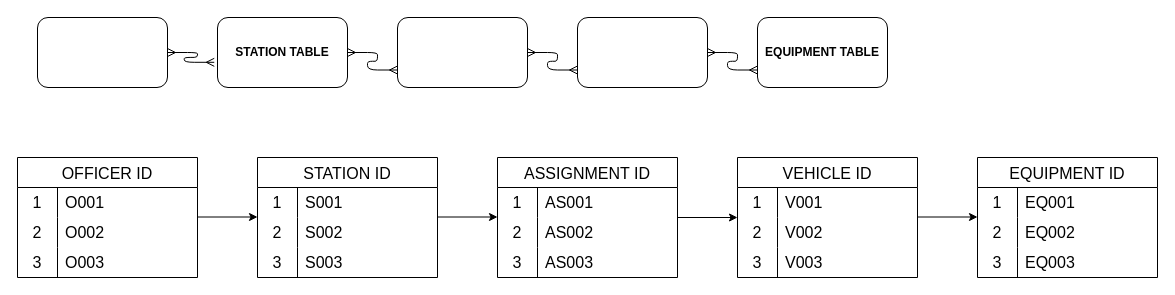
Some shapes in this 1175 by 295 pixel diagram are drawn without their labels. The centre of each missing label's shape, as x and y in pixels:
ASSIGNMENT TABLE: (x=462, y=52)
OFFICER TABLE: (x=102, y=52)
VEHICLE TABLE: (x=642, y=52)
